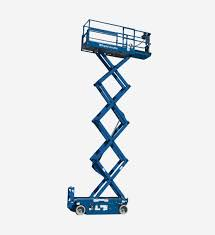Scissor Lift: (67, 19, 151, 215)
